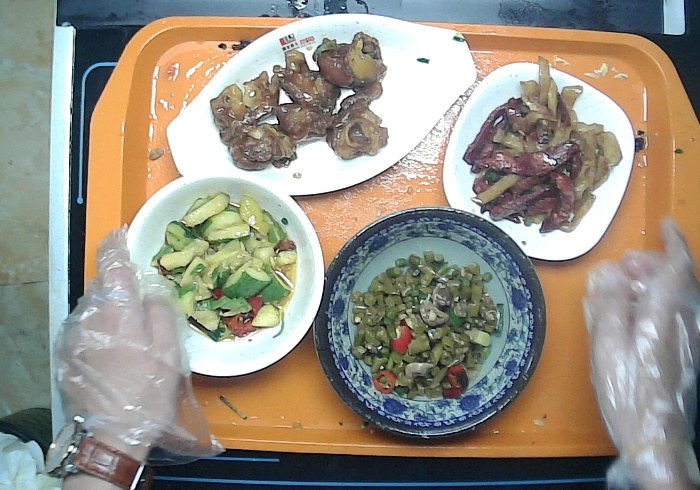ZNLD-Qing_Hua_Wan: (308, 207, 548, 441)
ZNLD-Si_Fang_Wan: (437, 61, 636, 263)
ZNLD-Tang_Wan: (122, 172, 325, 386)
ZNLD-Yu_Pan: (164, 11, 481, 198)
